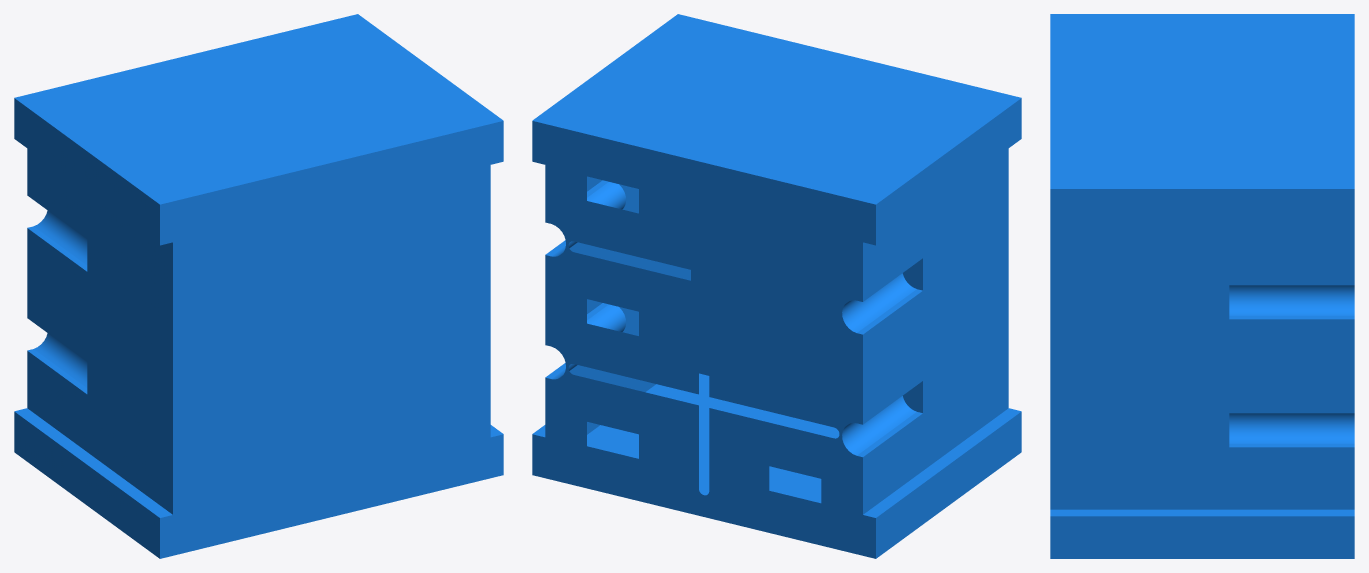
Rendered from original-20.obj.
The picture shows the model from 3 angles, left to right: view 1: azimuth 30°, elevation 25°; view 2: azimuth 150°, elevation 25°; view 3: azimuth 270°, elevation 25°; orthographic projection. The views are drawn at different scales.
Parts seen in each view (by area): view 1: #ID83; view 2: #ID83; view 3: #ID83.
Part boxes in pixels (<box>): #ID83: <box>14,14,503,558</box>; #ID83: <box>532,14,1021,558</box>; #ID83: <box>1050,14,1354,558</box>.
Bounding box in the file's own units: 0.6207 × 0.6113 × 0.4561.
